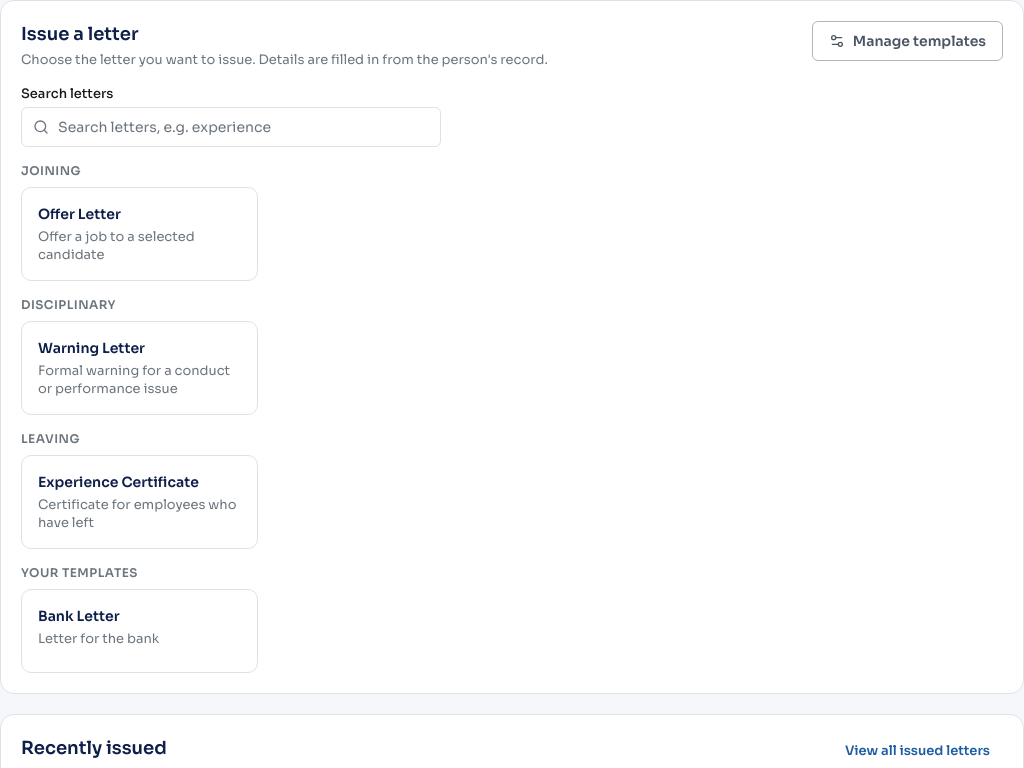
Test: filters cards by search and shows an empty state with a way back
Expected: the button "Offer Letter Offer a job to a selected candidate" is shown, [21,187,258,281]
Step 1. Type "experience" into the search field labelled "Search letters" → (231, 127), box [21,107,441,147]
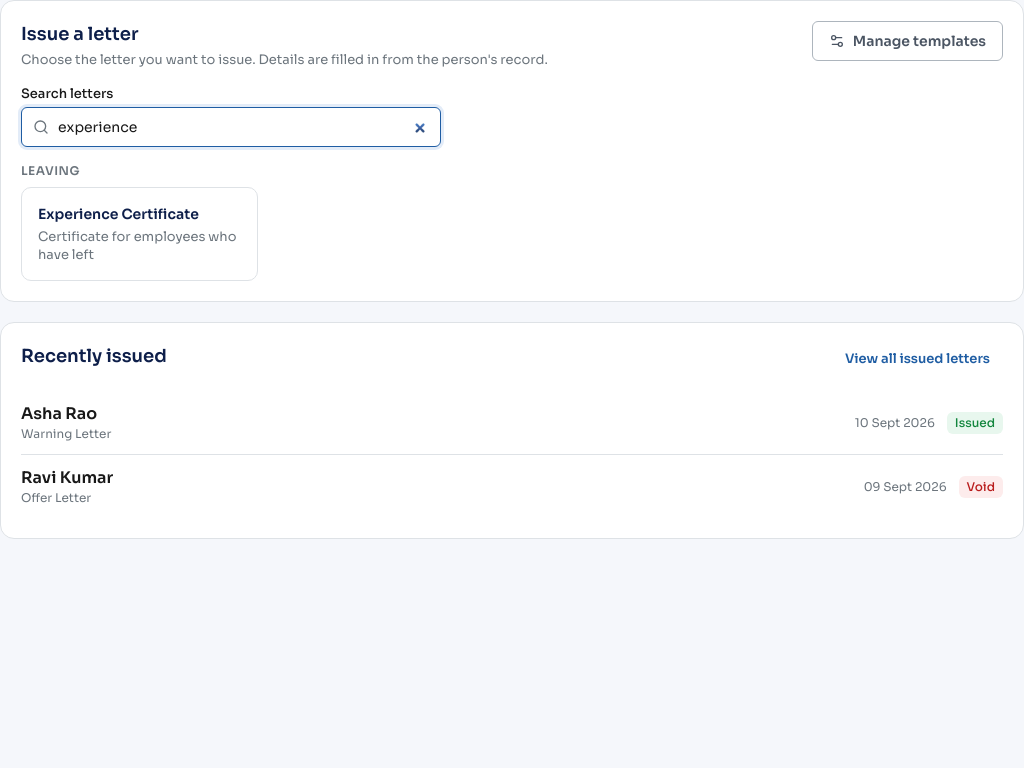
Expected: the button "Experience Certificate" is shown, [21,187,258,281]
Step 2. Replace the text in the search field labelled "Search letters" with "zzz" → (231, 127), box [21,107,441,147]
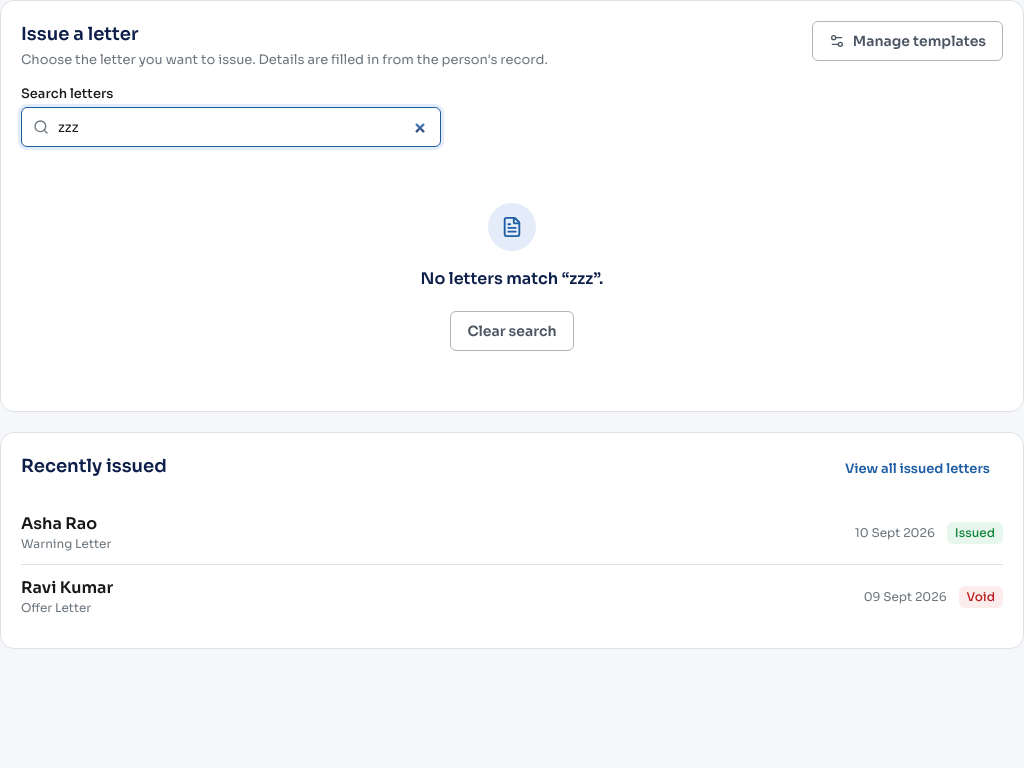
Expected: the text "No letters match “zzz”." is shown, [421,267,603,291]
Step 3. Click the button "Clear search" → (512, 331), box [450,311,574,351]
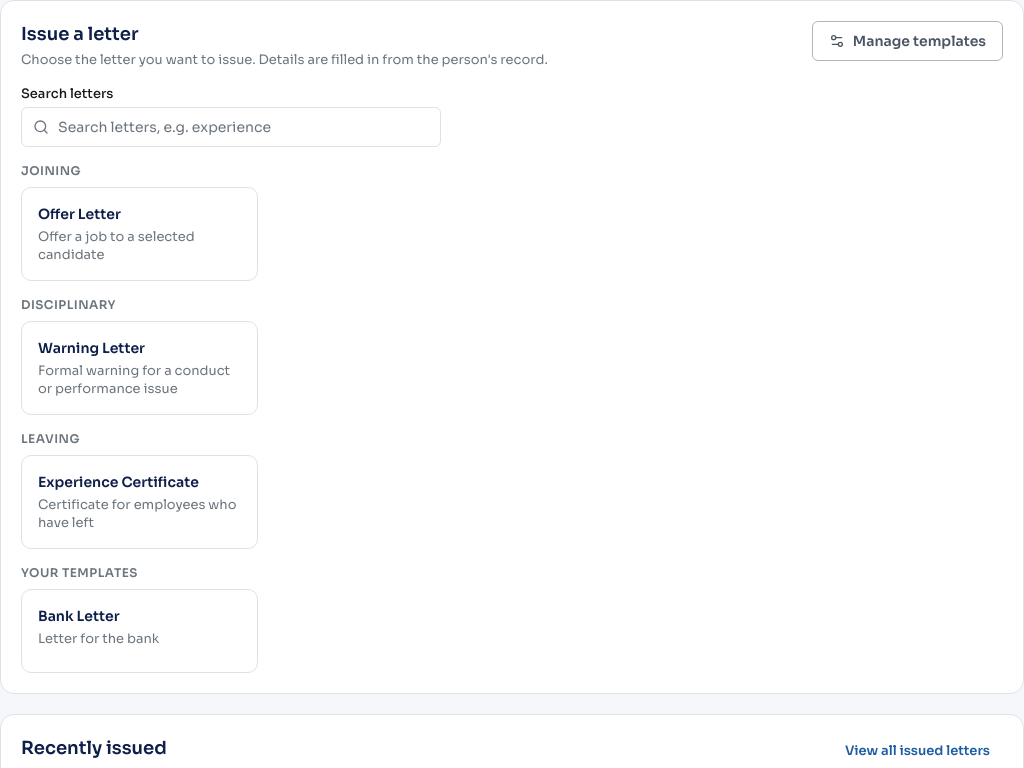
Expected: the button "Offer Letter Offer a job to a selected candidate" is shown, [21,187,258,281]
